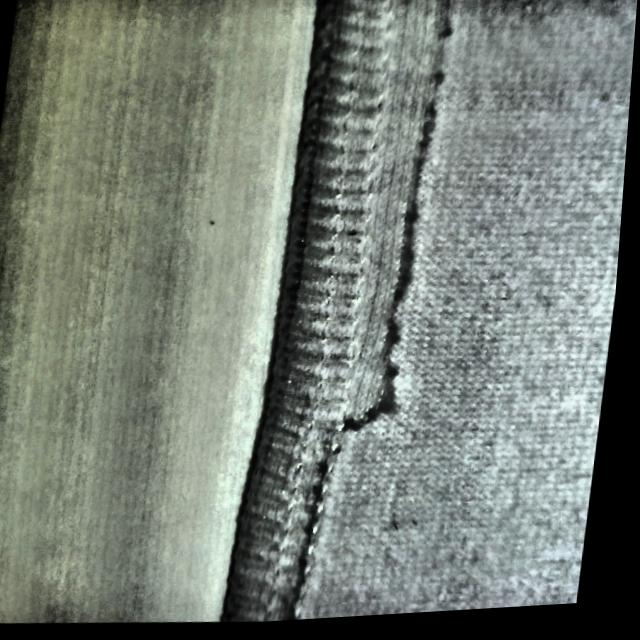seam: (267, 0, 487, 441)
